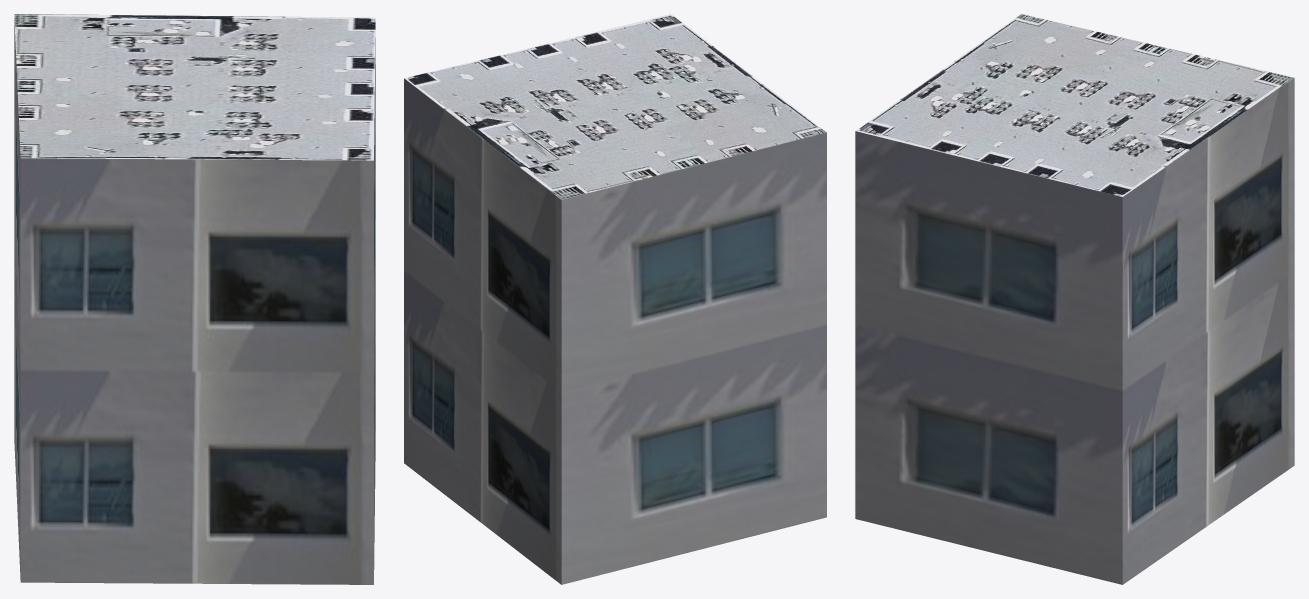
The model's file is ResTex__1816.fbx.
3 views of the same model, side by side, from view 1: azimuth 30°, elevation 25°; view 2: azimuth 150°, elevation 25°; view 3: azimuth 270°, elevation 25° (orthographic). The views are drawn at different scales.
Visible parts, largest first — view 1: CityEngineMaterial_10_m, CityEngineMaterial_2_m; view 2: CityEngineMaterial_10_m, CityEngineMaterial_2_m; view 3: CityEngineMaterial_10_m, CityEngineMaterial_2_m.
Boxes of the visible parts, <box> form: CityEngineMaterial_10_m: <box>14,20,375,584</box>; CityEngineMaterial_2_m: <box>14,14,375,160</box>; CityEngineMaterial_10_m: <box>404,78,826,584</box>; CityEngineMaterial_2_m: <box>404,14,826,199</box>; CityEngineMaterial_10_m: <box>855,78,1294,584</box>; CityEngineMaterial_2_m: <box>856,14,1294,196</box>.
Bounding box in the file's own units: 6.07 × 6 × 6.16.
2 materials, 2 textured.
